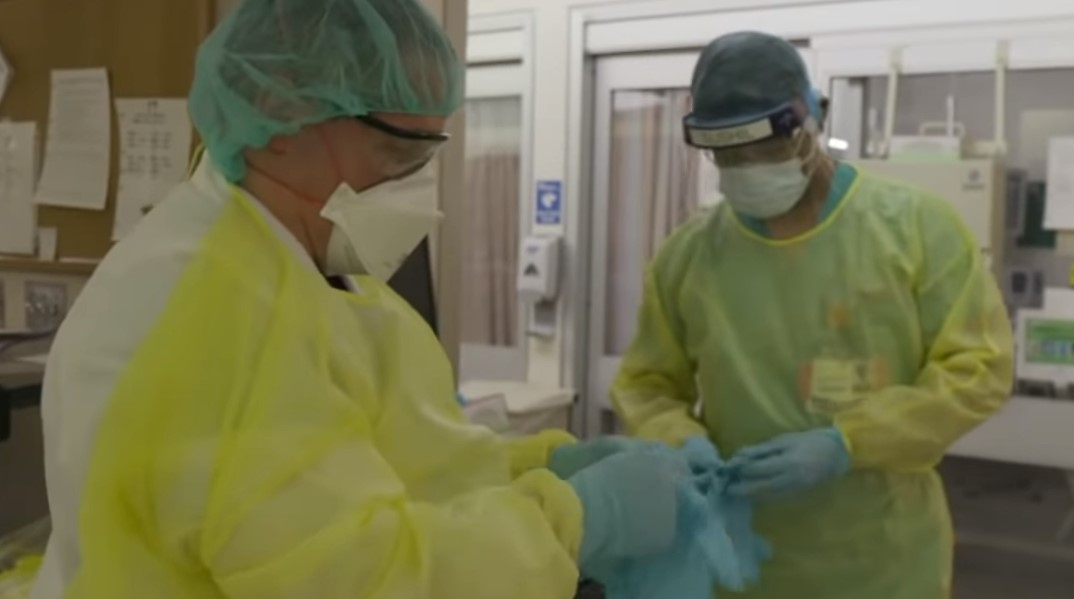face_with_mask: (193, 5, 462, 286), (682, 34, 821, 222)
